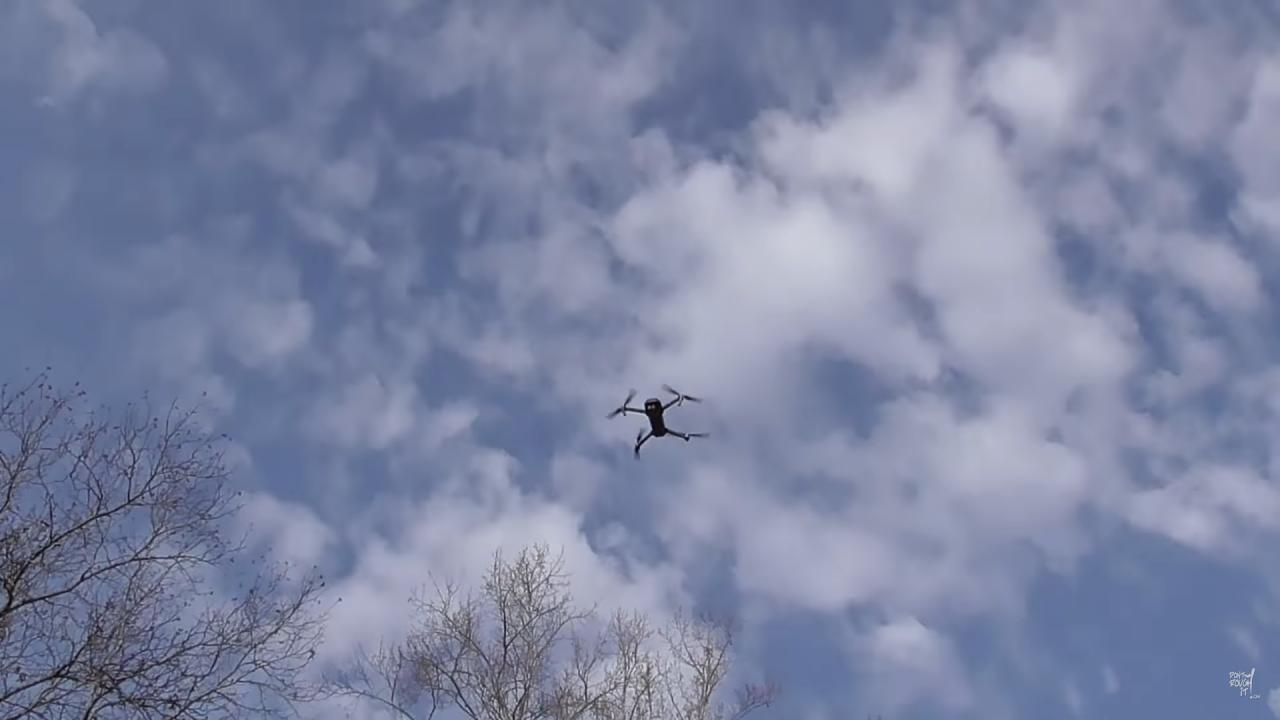Drone: (599, 377, 719, 469)
